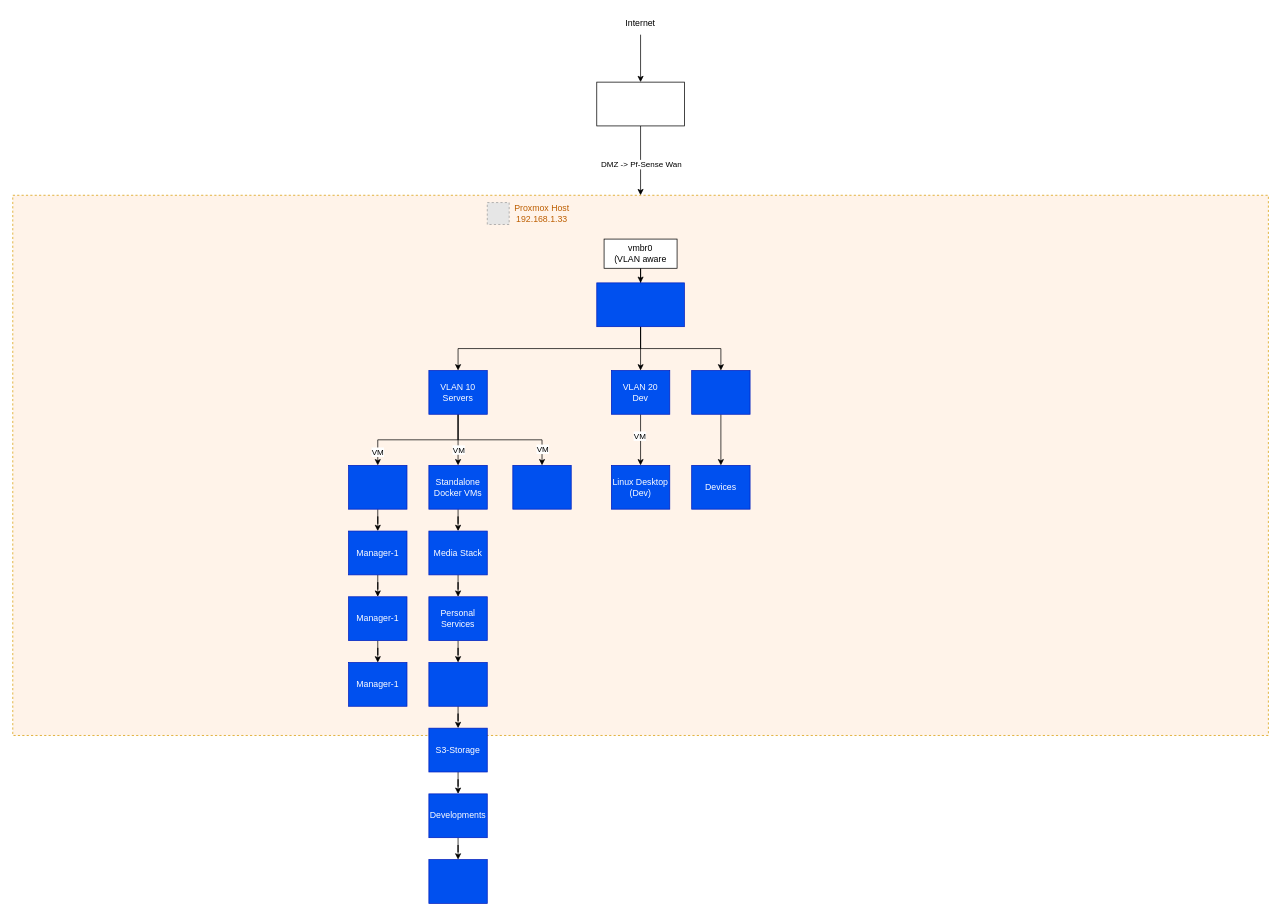
This 1281x916 diagram has some shape labels left out. Grey dashed boxes stand in for pictures. The shapes that lost their labels are listed below. From the top down, each one's box as (x1, y1, x2, y2) in pixels, then its label:
(596, 81, 684, 126): Viettel Router 192.168.1.1
(596, 282, 684, 327): Pf-Sense (VM)
(691, 370, 750, 414): VLAN 30 IoT
(348, 465, 407, 509): Kubernete Clusters
(512, 465, 571, 509): Standalone VMs
(428, 662, 487, 706): Databases
(428, 859, 487, 903): Reverse Proxy
